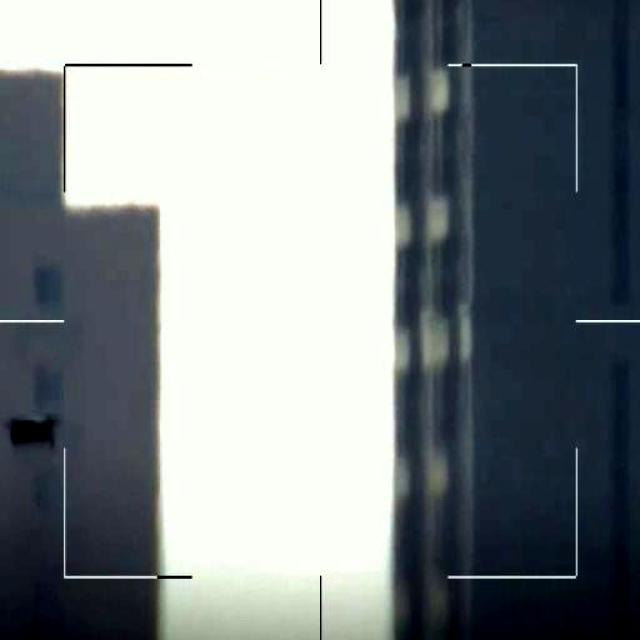bird: (11, 412, 58, 448)
